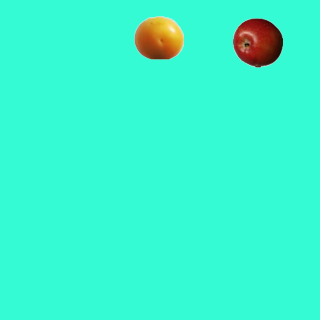Apple Braeburn: (232, 17, 282, 67)
Cherry Wax Yellow: (133, 12, 183, 62)
